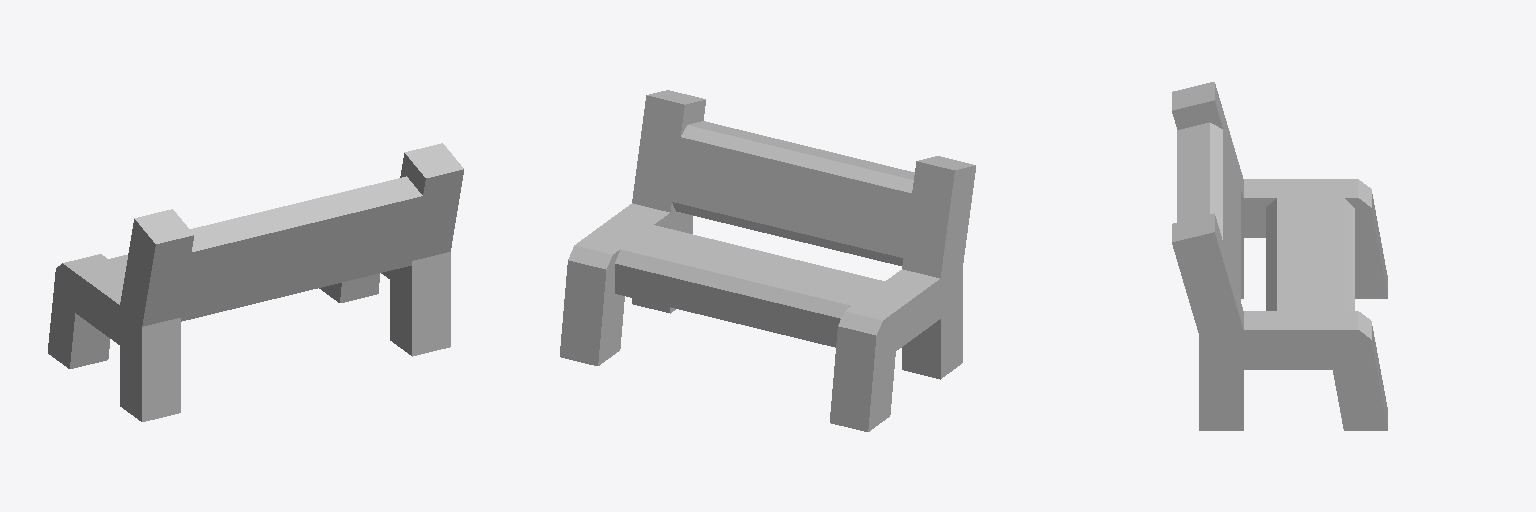
File: bench.obj
The picture shows the model from 3 angles: view 1: azimuth 30°, elevation 25°; view 2: azimuth 150°, elevation 25°; view 3: azimuth 270°, elevation 25°; orthographic projection.
Visible parts, largest first — view 1: bench; view 2: bench; view 3: bench.
Boxes of the visible parts, box(x1,y1,x2,y2) form: bench: box(48, 143, 463, 421); bench: box(560, 90, 975, 431); bench: box(1172, 82, 1387, 430).
Bounding box in the file's own units: 0.8 × 0.4915 × 0.4863.